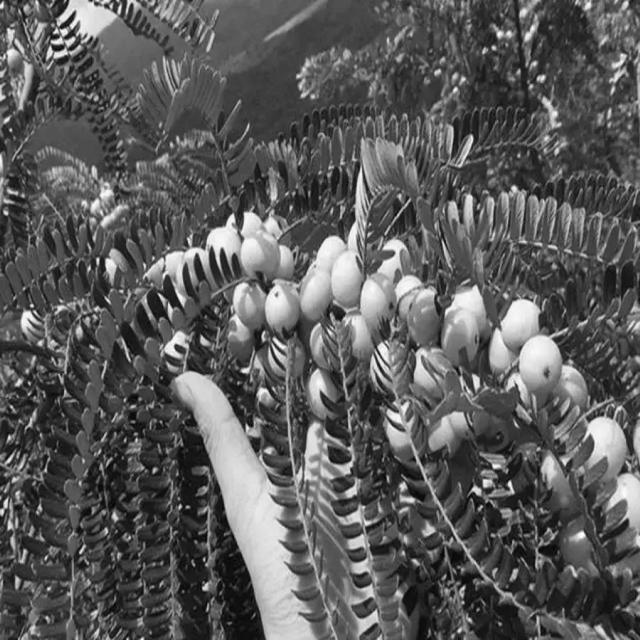ganlan: (158, 35, 638, 606), (1, 82, 193, 517)
